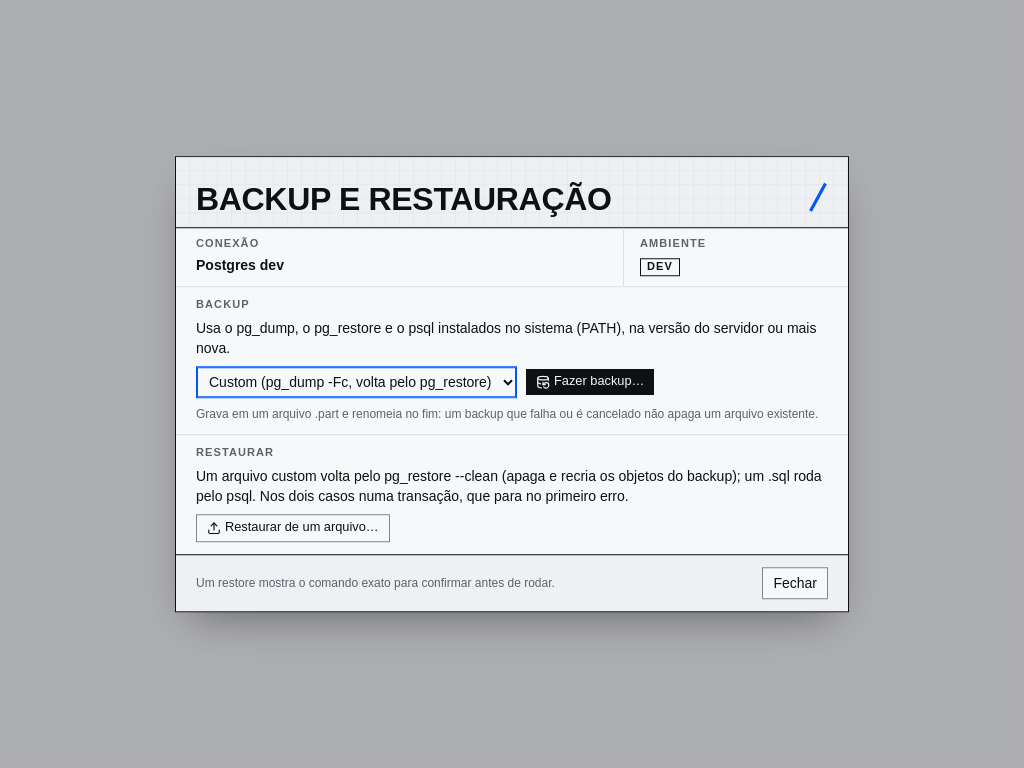
Test: a restore shows the exact command and runs only after it is confirmed
Click the button "Restaurar de um arquivo…".
click(293, 528)  # box 196,514 -> 390,542
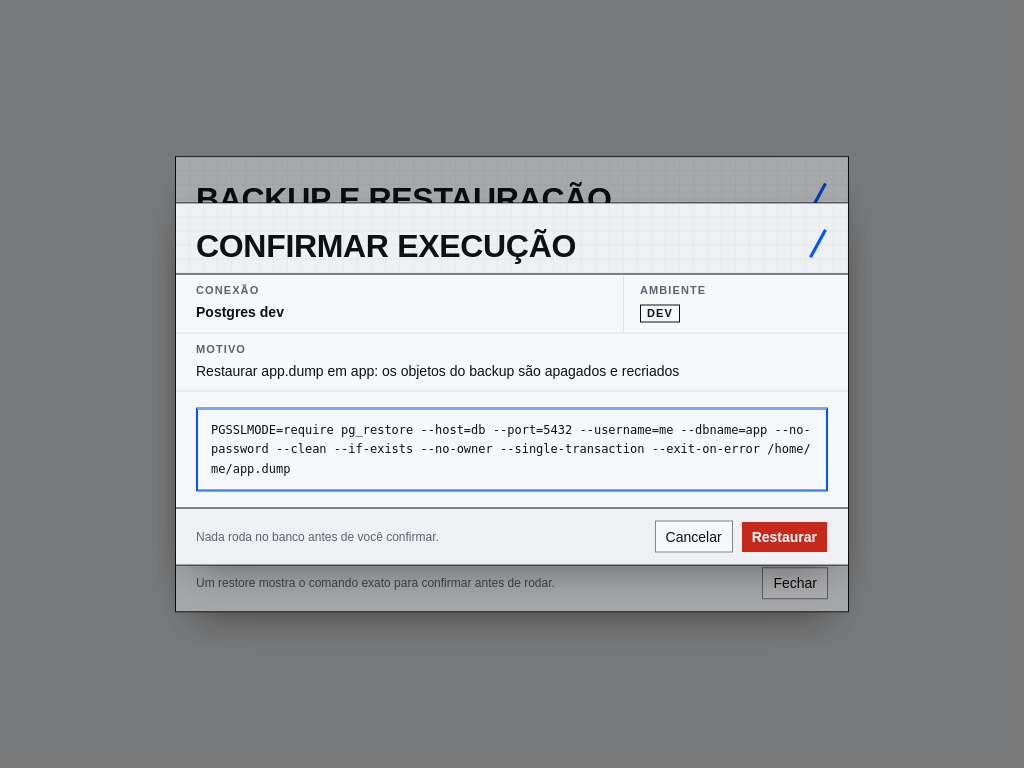
Check: the text named "Comando que será executado" shows "pg_restore --host=db --port=5432 --username=me --dbname=app --no-password --clean", box 211,422 -> 811,475
Click the button "Restaurar".
click(784, 536)  # box 741,520 -> 828,552
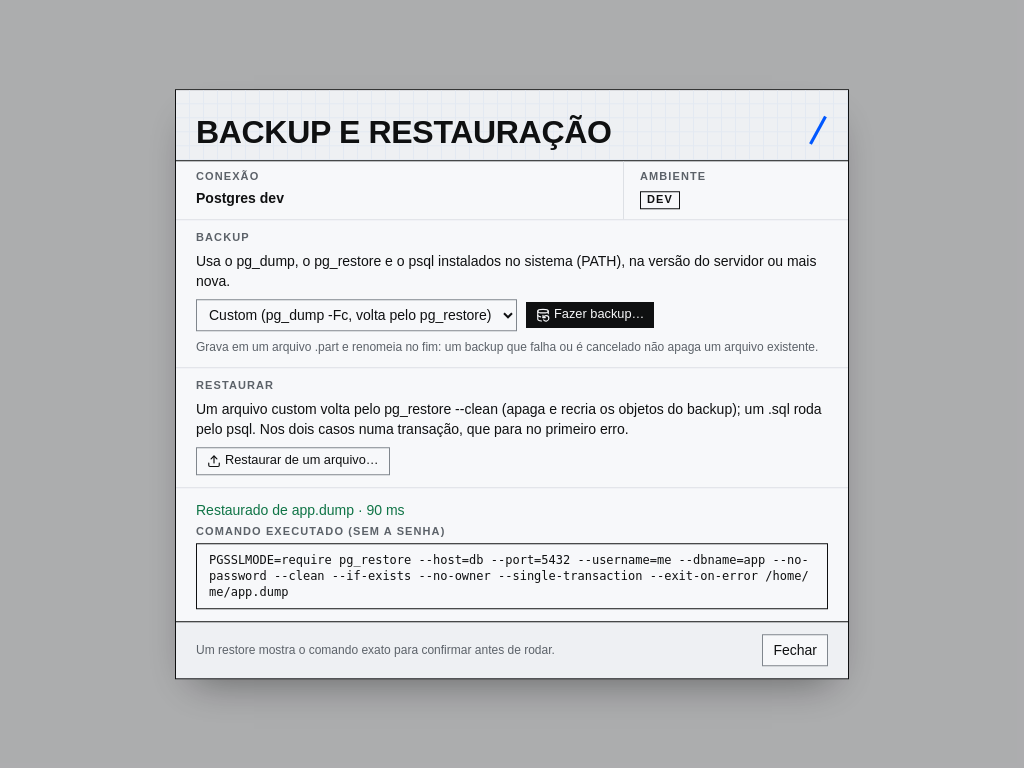
Check: the text "Restaurado de app.dump · 90 ms" is shown, box 196,502 -> 405,518
